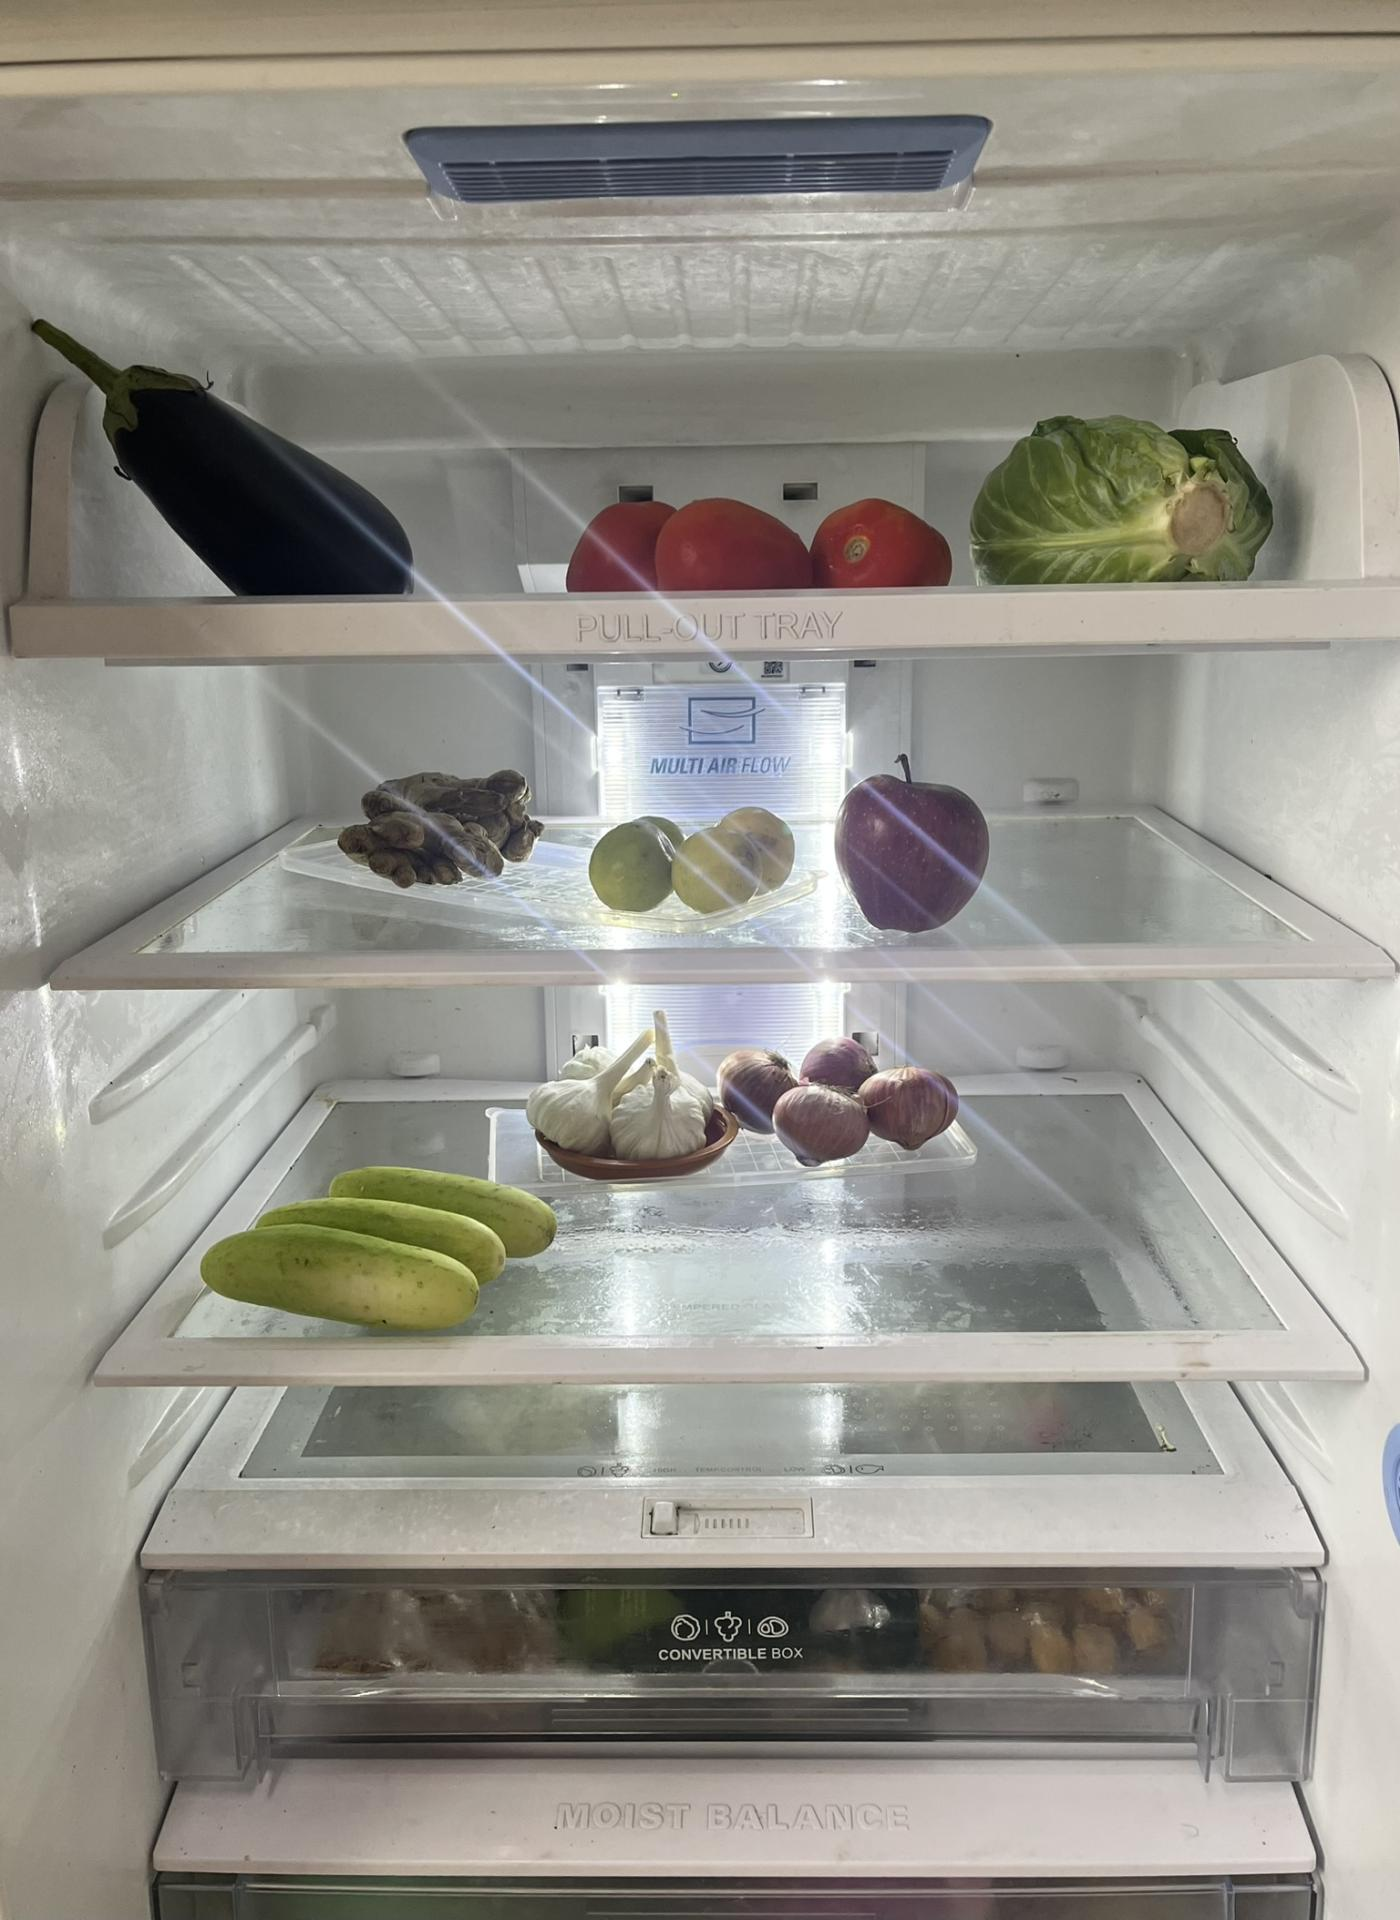apple: (839, 760, 988, 932)
brinjal: (28, 303, 429, 596)
cabbage: (966, 410, 1273, 581)
cucumber: (194, 1163, 567, 1330)
garlic: (531, 1008, 722, 1163)
ginger: (343, 769, 544, 891)
lemon: (593, 808, 802, 915)
onion: (717, 1032, 960, 1175)
tomato: (559, 498, 956, 593)
